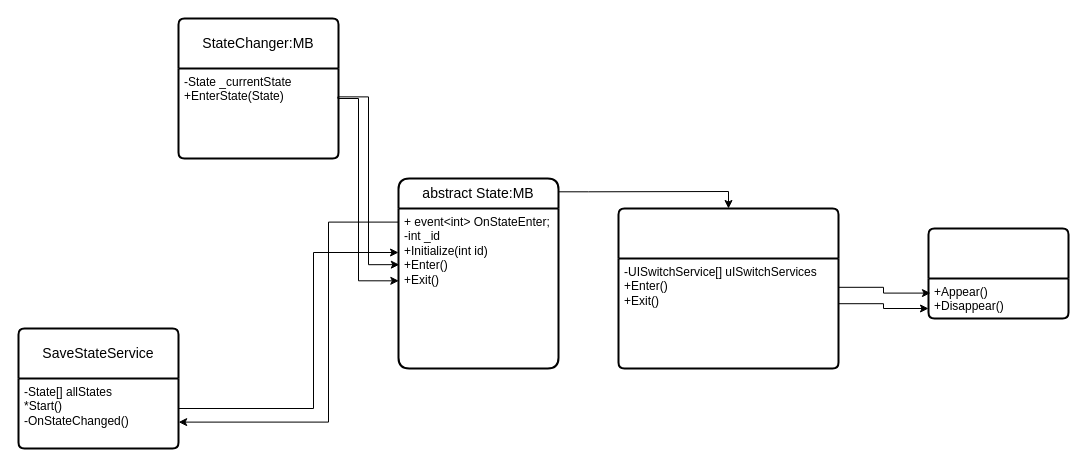
This 1086x466 diagram has some shape labels left out. Each missing label, with the box of its shape:
abstract UISwitchService: (927, 227, 1069, 319)
UIState:State: (617, 207, 839, 369)
